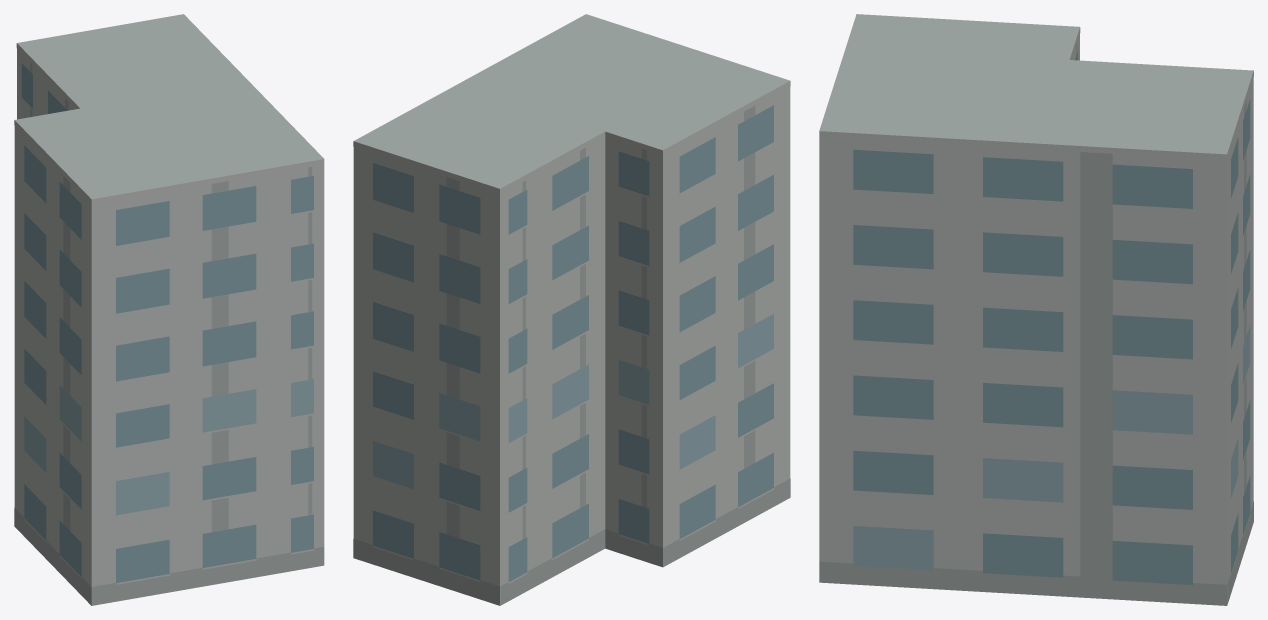
File: residential-10a774da-975c-4e99-a35c-ff466e946358.glb
3 views of the same model, side by side, from view 1: azimuth 30°, elevation 25°; view 2: azimuth 150°, elevation 25°; view 3: azimuth 270°, elevation 25° (orthographic). The views are drawn at different scales.
Parts seen in each view (by area): view 1: residential-10a774da-975c-4e99-a35c-ff466e946358.tmp; view 2: residential-10a774da-975c-4e99-a35c-ff466e946358.tmp; view 3: residential-10a774da-975c-4e99-a35c-ff466e946358.tmp.
Boxes of the visible parts, x1,y1,x2,y2 form: residential-10a774da-975c-4e99-a35c-ff466e946358.tmp: (14, 14, 324, 605); residential-10a774da-975c-4e99-a35c-ff466e946358.tmp: (353, 14, 790, 605); residential-10a774da-975c-4e99-a35c-ff466e946358.tmp: (819, 14, 1253, 605).
Size of the model in its own units: 12.22 by 18.3 by 15.98.
